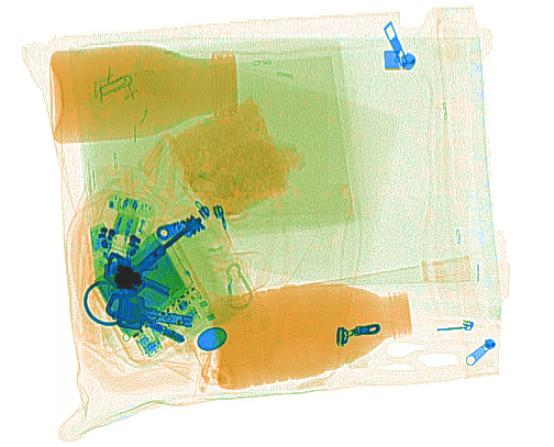USBFlashDisk: (86, 222, 115, 283)
